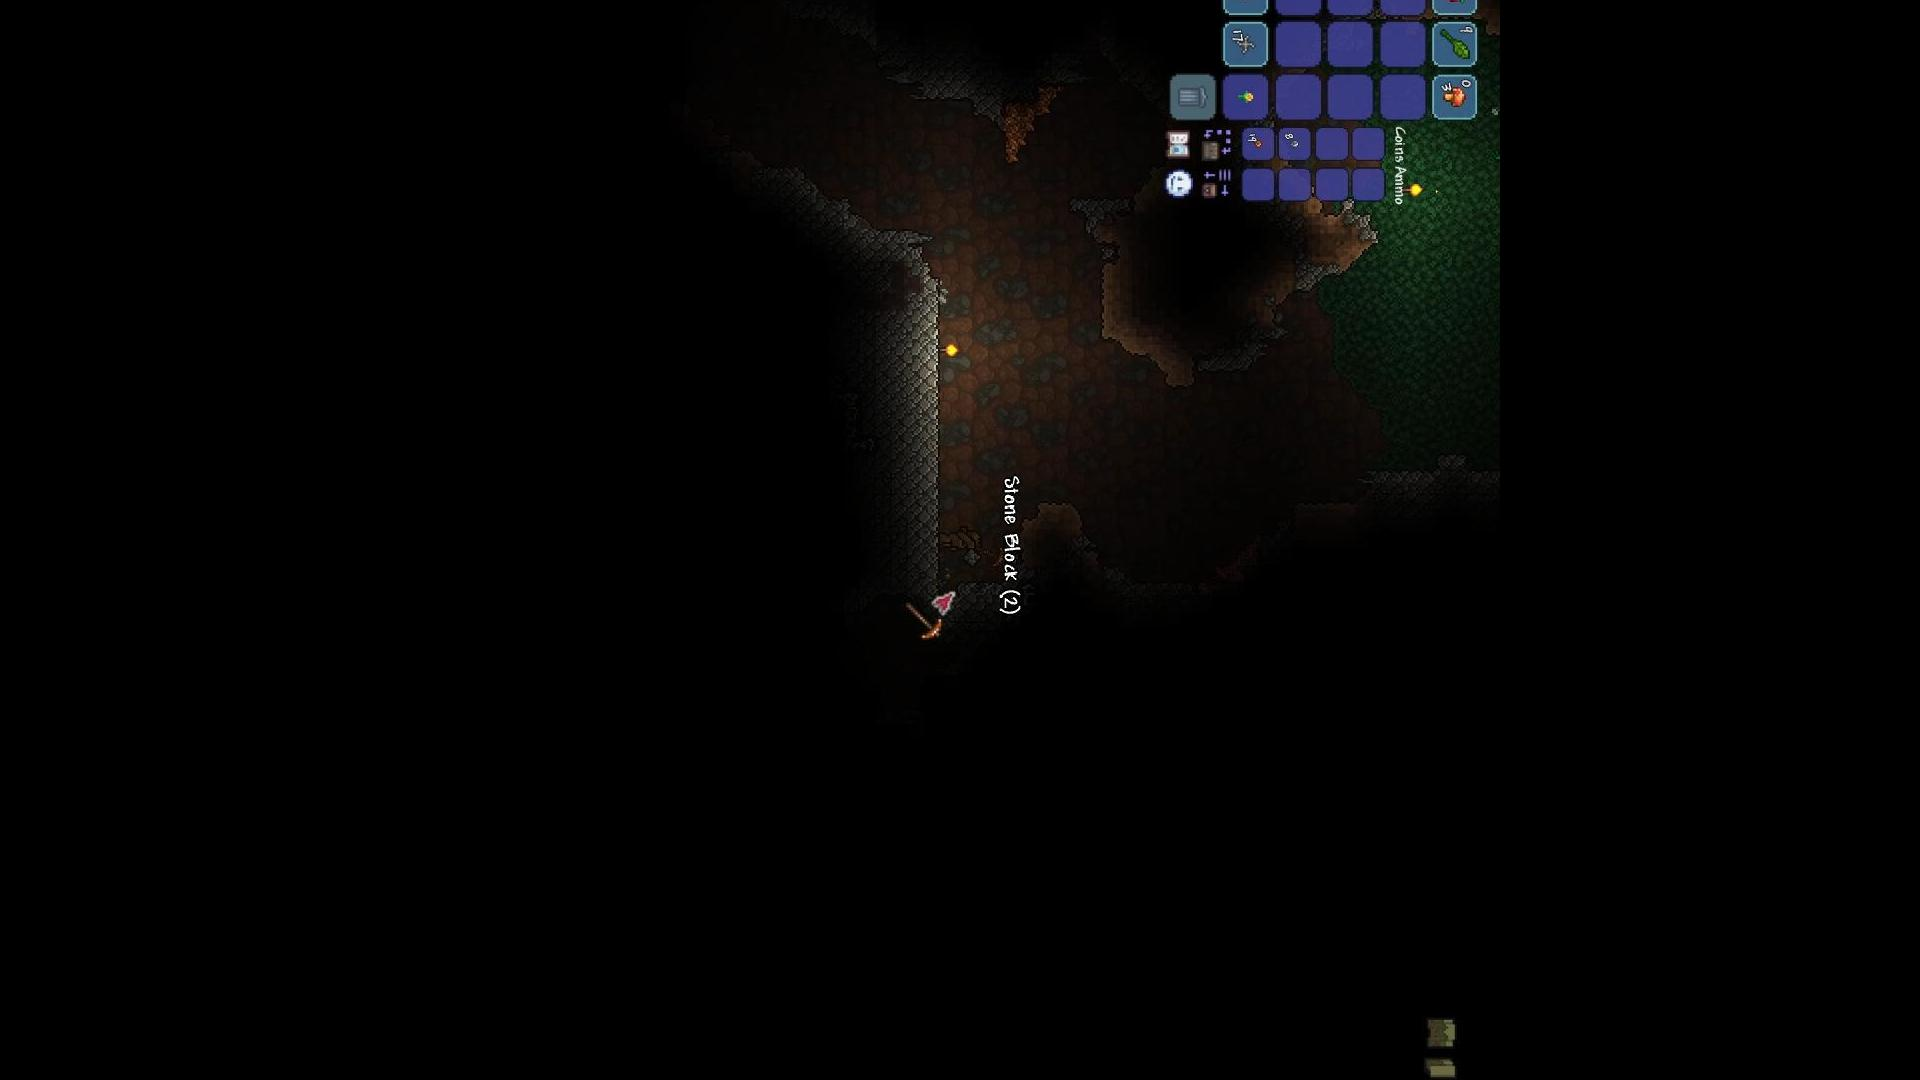dirt: (1005, 493, 1098, 683), (1095, 222, 1180, 409)
stone: (902, 229, 938, 582), (1295, 262, 1331, 303)
